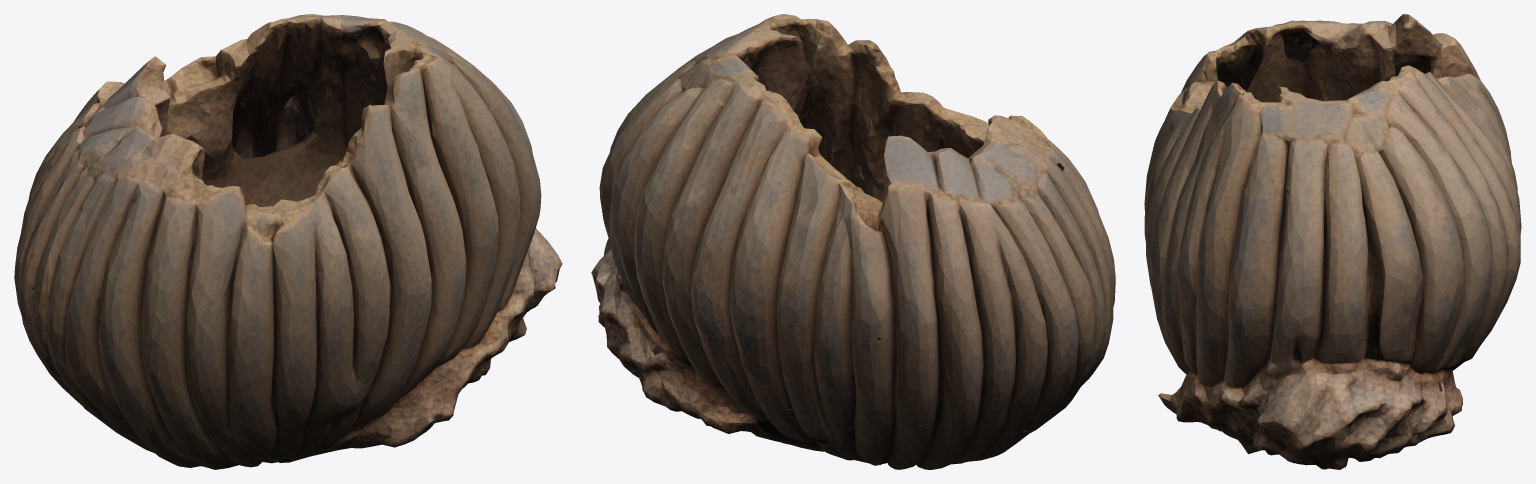
The picture shows the model from 3 angles, left to right: view 1: azimuth 30°, elevation 25°; view 2: azimuth 150°, elevation 25°; view 3: azimuth 270°, elevation 25°; orthographic projection.
Parts seen in each view (by area): view 1: world; view 2: world; view 3: world.
Boxes of the visible parts, <box> form: world: <box>14,14,562,469</box>; world: <box>591,14,1115,469</box>; world: <box>1144,14,1521,469</box>.
Size of the model in its own units: 0.999 by 0.7112 by 0.6478.
Materials: 1 (1 with a texture image).
